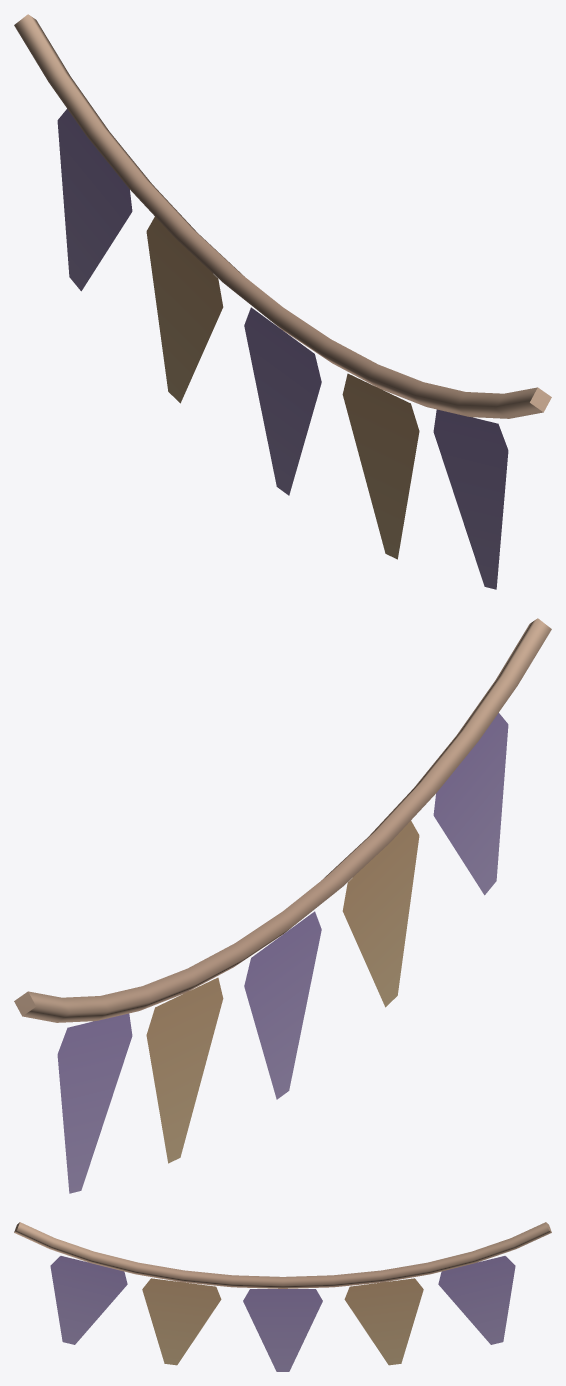
File: flags-a (%wall).glb
3 renders of one model, top to bottom at view 1: azimuth 30°, elevation 25°; view 2: azimuth 150°, elevation 25°; view 3: azimuth 270°, elevation 25°, orthographic. The views are drawn at different scales.
Visible parts, largest first — view 1: flags-a (%wall); view 2: flags-a (%wall); view 3: flags-a (%wall).
Boxes of the visible parts, box(x1,y1,x2,y2) form: flags-a (%wall): box(14, 14, 551, 589); flags-a (%wall): box(14, 618, 551, 1193); flags-a (%wall): box(14, 1222, 551, 1371).
Bounding box in the file's own units: 0.025 × 0.3109 × 1.01.
